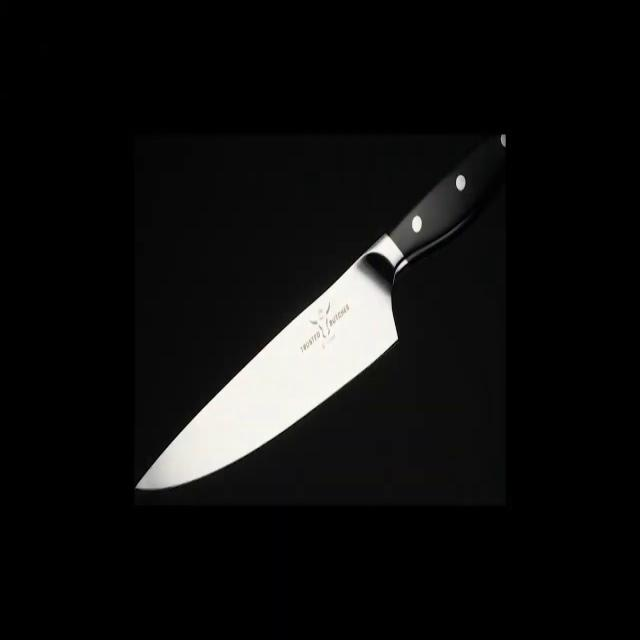Knife_Handle: (136, 195, 428, 491)
